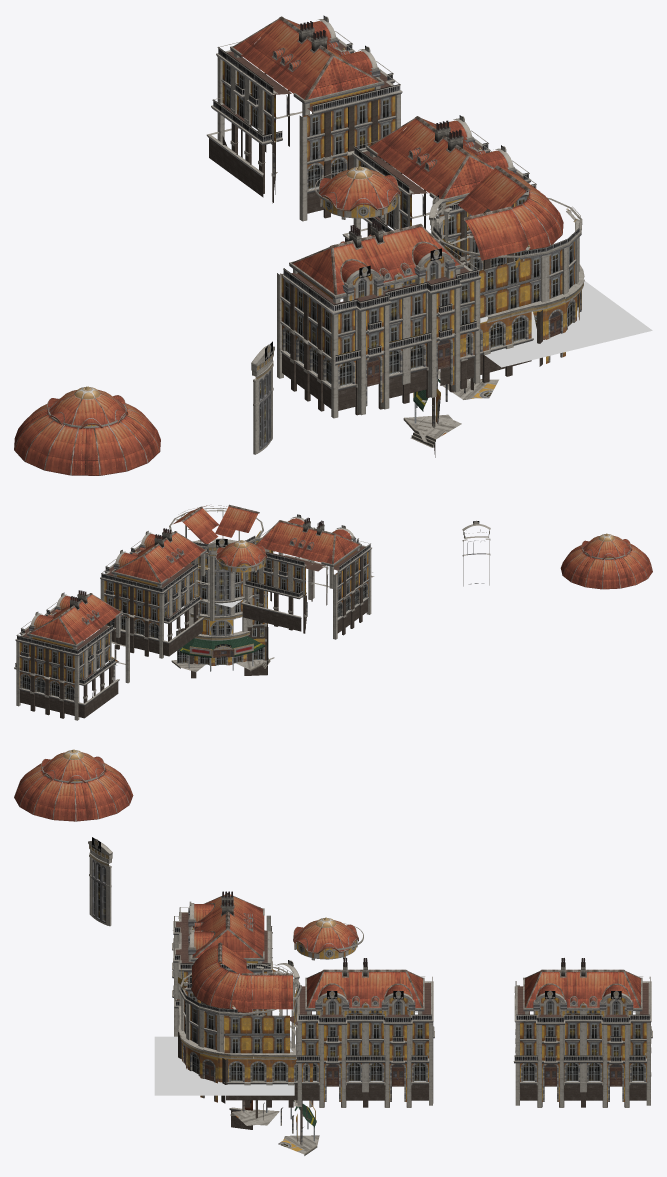
Rendered from attractive_facade_02.gltf.
3 views of the same model, one above another, from view 1: azimuth 30°, elevation 25°; view 2: azimuth 150°, elevation 25°; view 3: azimuth 270°, elevation 25° (orthographic). The views are drawn at different scales.
Visible parts, largest first — view 1: colony_01.001, colony_01, _lod0, roof.003, ground, nice-facade.008, hotel.001, roof-top, nice-facade.024, roof-top.001, nice-facade.023, roof-straight (+12 smaller); view 2: colony_01.001, colony_01, hotel.001, roof.003, _lod0, side-bottom, nice-facade.008, roof-top, nice-facade.024, nice-facade.023, roof-top.001, roof-straight (+9 smaller); view 3: colony_01, colony_01.001, _lod0, nice-facade.001, roof.003, nice-facade, ground, hotel.001, side-bottom.002, nice-facade.008, roof-top, roof.002 (+11 smaller).
Part boxes in pixels (<box>): colony_01.001: <box>277,220,481,418</box>; colony_01: <box>342,115,536,274</box>; _lod0: <box>404,166,584,457</box>; roof.003: <box>14,403,160,475</box>; ground: <box>480,281,652,367</box>; nice-facade.008: <box>233,16,377,98</box>; hotel.001: <box>403,193,582,455</box>; roof-top: <box>318,166,400,219</box>; nice-facade.024: <box>211,61,282,145</box>; roof-top.001: <box>46,386,127,429</box>; nice-facade.023: <box>206,108,277,203</box>; roof-straight: <box>462,206,527,260</box>; colony_01.001: <box>241,514,374,639</box>; colony_01: <box>100,528,214,658</box>; hotel.001: <box>169,505,274,678</box>; roof.003: <box>560,543,652,589</box>; _lod0: <box>169,506,274,675</box>; side-bottom: <box>19,672,74,718</box>; nice-facade.008: <box>31,593,120,643</box>; roof-top: <box>216,540,267,573</box>; nice-facade.024: <box>79,632,116,685</box>; nice-facade.023: <box>68,657,119,718</box>; roof-top.001: <box>581,533,631,560</box>; roof-straight: <box>215,504,259,537</box>; colony_01: <box>296,958,434,1107</box>; colony_01.001: <box>172,891,280,1036</box>; _lod0: <box>179,960,318,1153</box>; nice-facade.001: <box>513,1022,646,1064</box>; roof.003: <box>14,762,133,821</box>; nice-facade: <box>520,1059,646,1107</box>; ground: <box>154,1036,294,1095</box>; hotel.001: <box>178,960,319,1155</box>; side-bottom.002: <box>224,1059,312,1107</box>; nice-facade.008: <box>526,969,639,1007</box>; roof-top: <box>293,917,358,960</box>; roof.002: <box>191,962,252,1012</box>.
Bounding box in the file's own units: 13.48 × 5.06 × 13.69.
2 materials, 2 textured.
